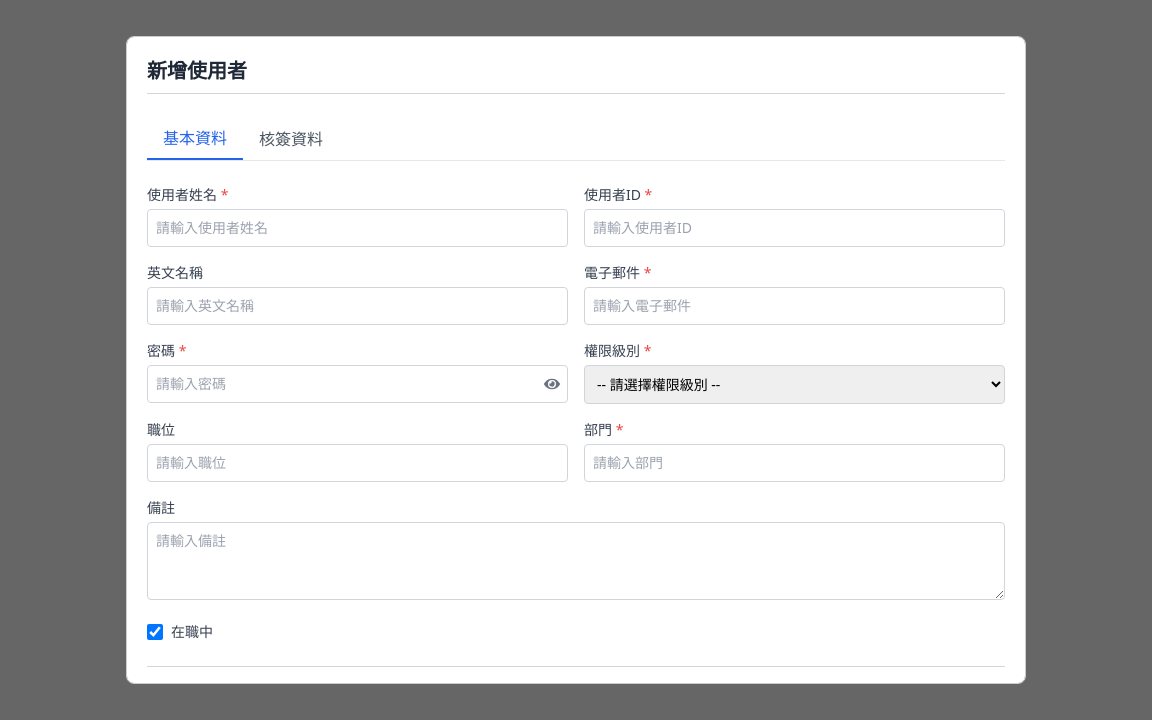
Scenario: UserModal Component › 表單驗證 › 無效的電子郵件格式應該顯示錯誤
Type "測試使用者" into the field labelled "使用者姓名 *" at (358, 228), box [147, 209, 568, 247]
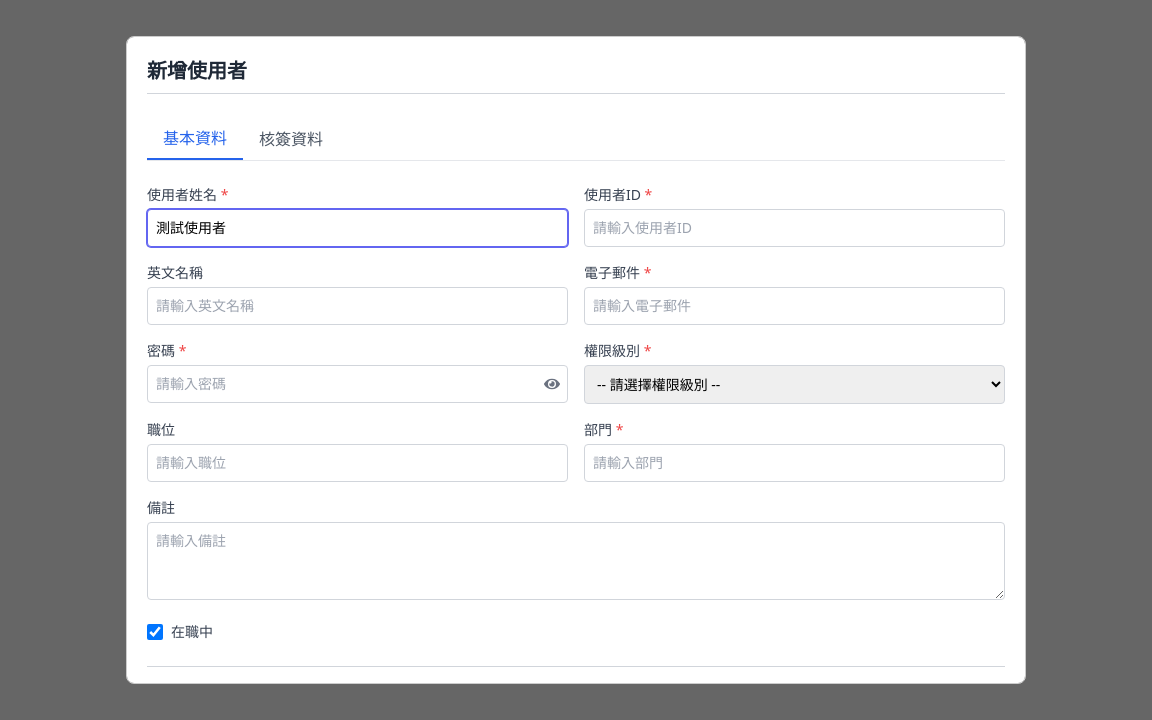
Type "testuser" into the field labelled "使用者ID *" at (794, 228), box [584, 209, 1005, 247]
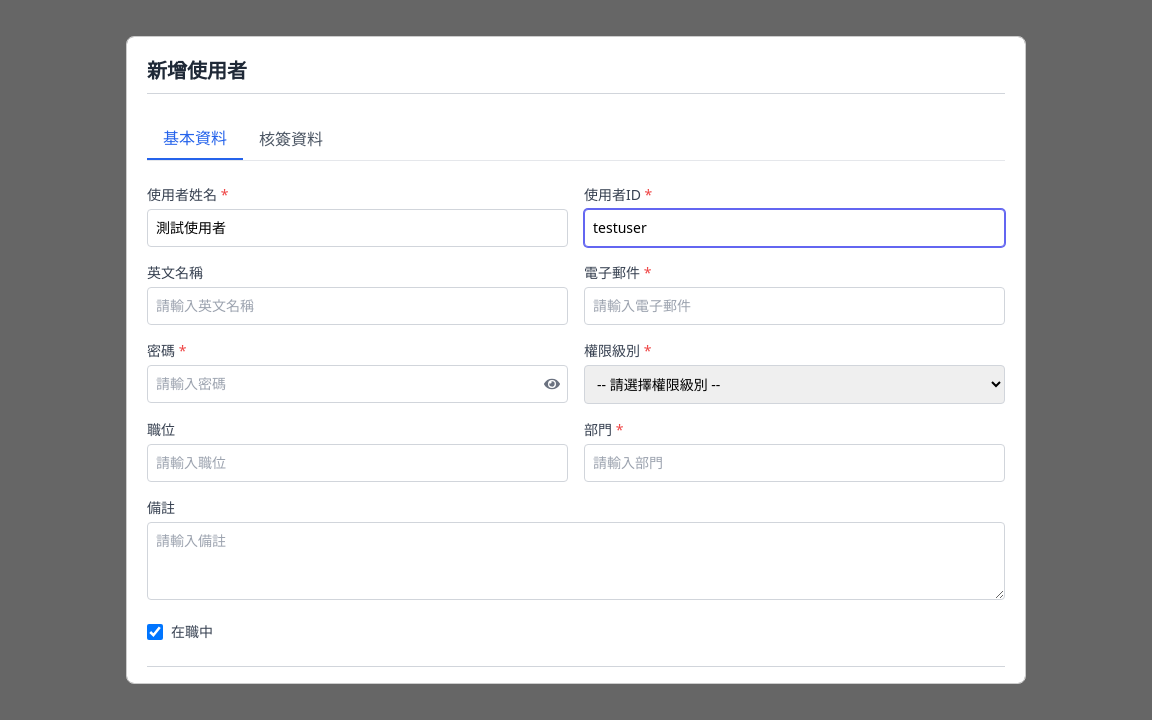
Type "invalid-email" into the field labelled "電子郵件 *" at (794, 306), box [584, 287, 1005, 325]
(page scrolled)
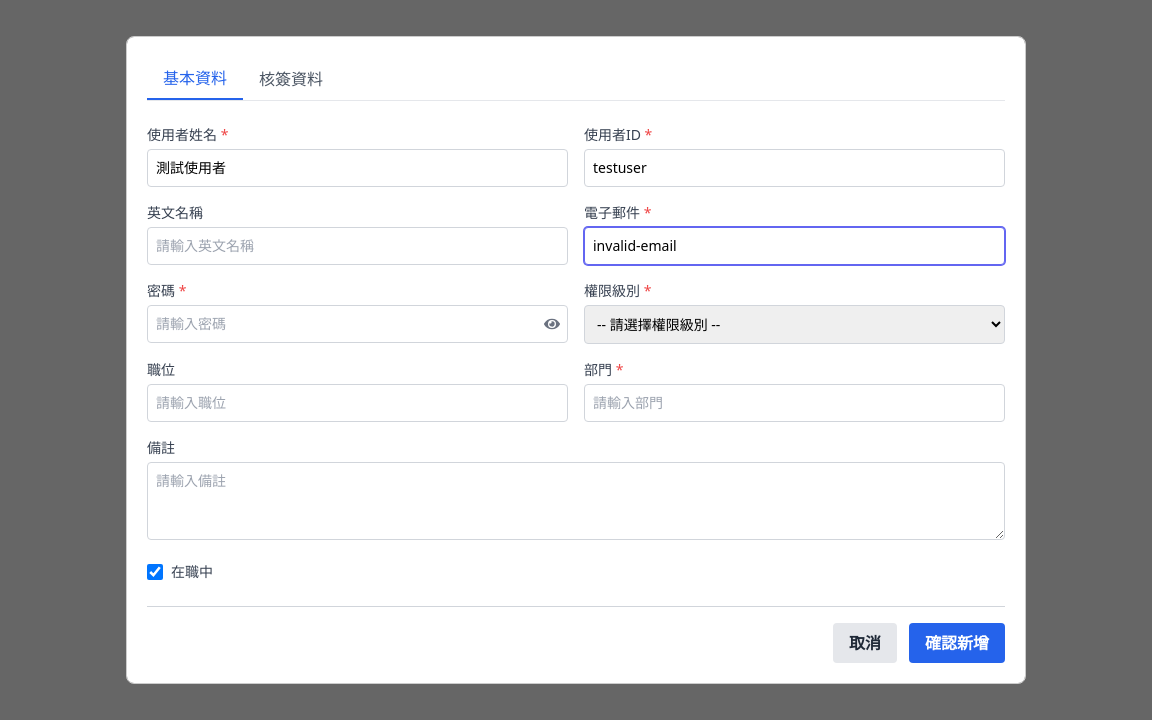
Click the button "確認新增" at (957, 643), box [909, 623, 1005, 663]
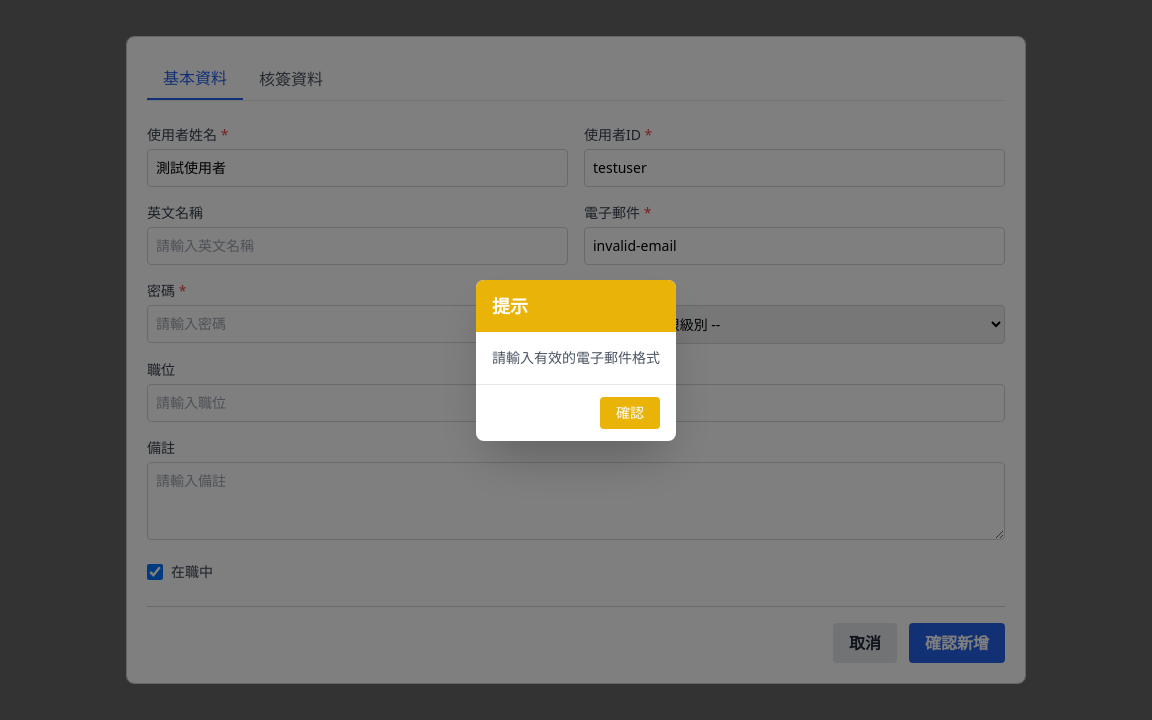
expect the text "請輸入有效的電子郵件格式" is shown: met, box [492, 348, 660, 368]
